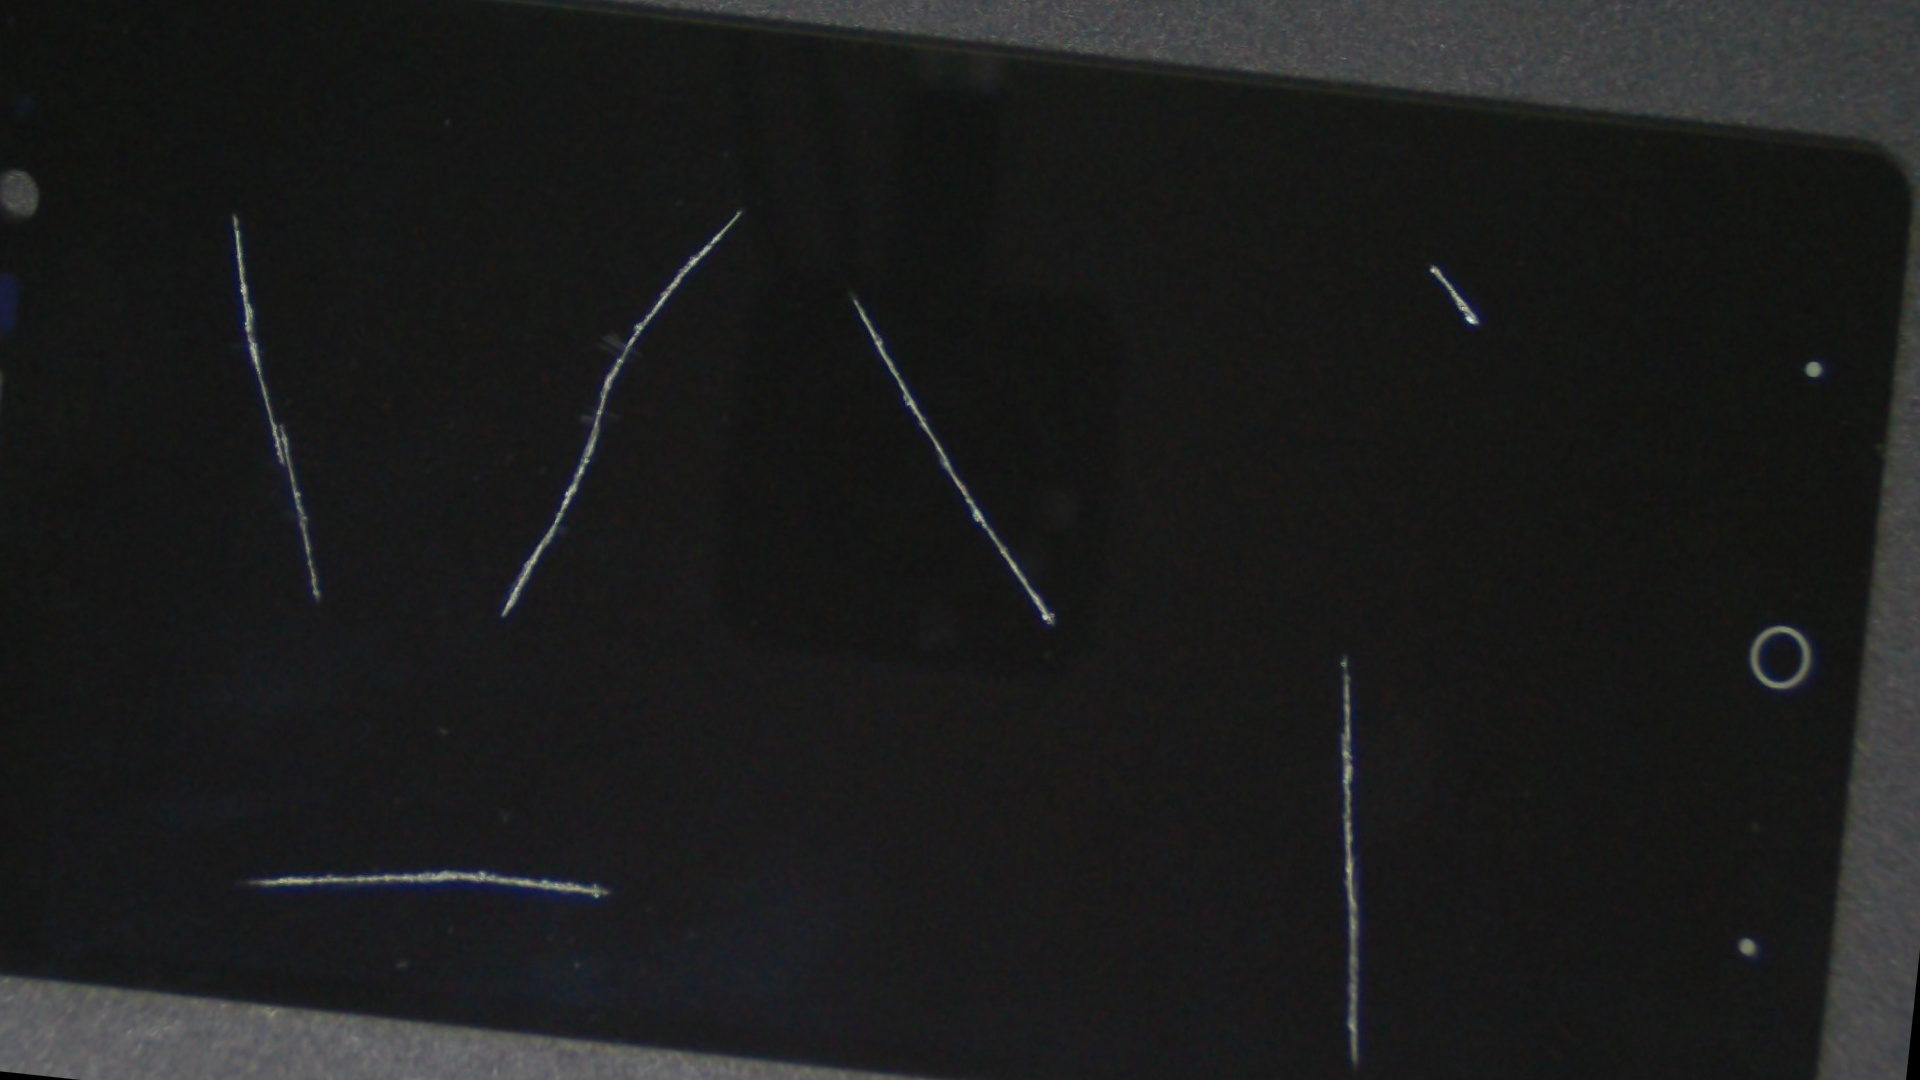oil: (547, 207, 1920, 1080), (634, 15, 1920, 491), (112, 316, 873, 1080), (335, 28, 1371, 563), (285, 0, 1188, 431), (28, 0, 439, 435)
